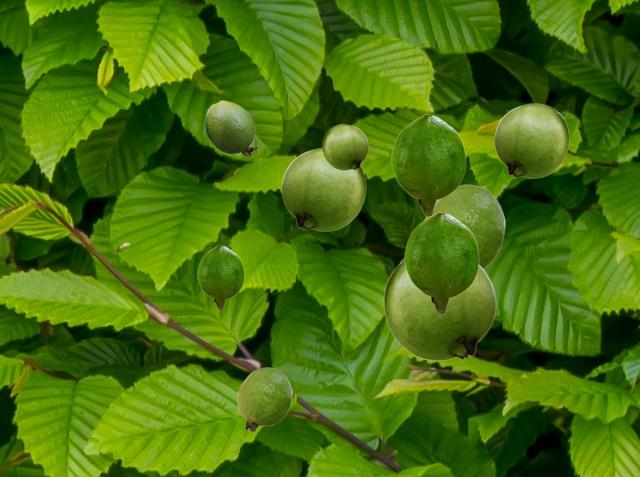guava: (383, 258, 495, 360), (391, 114, 465, 216), (404, 212, 478, 314), (281, 147, 365, 230), (424, 184, 504, 268), (494, 103, 568, 177), (237, 367, 291, 431), (197, 245, 243, 309), (205, 100, 257, 155), (322, 124, 367, 169)
